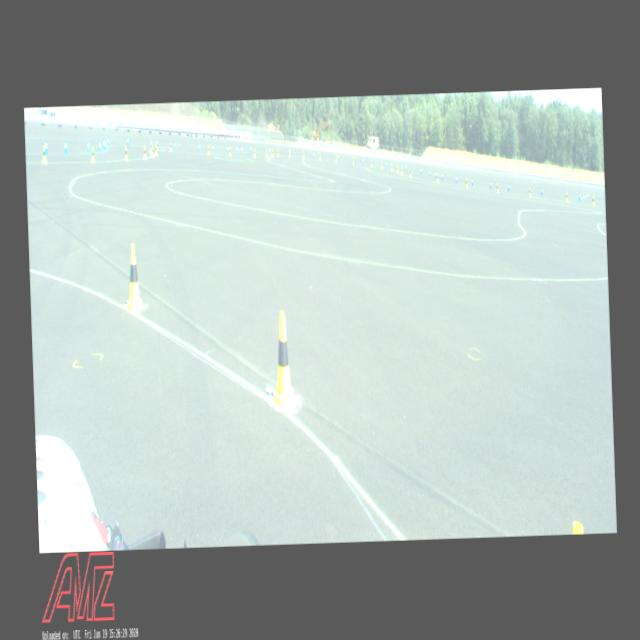blue_cone: (44, 138, 48, 154), (64, 138, 68, 154), (98, 140, 102, 150), (87, 139, 90, 152), (578, 191, 581, 201), (235, 144, 238, 154), (489, 180, 492, 189), (173, 140, 176, 148), (107, 135, 109, 146), (102, 138, 104, 148), (507, 181, 509, 191), (150, 138, 152, 148), (126, 136, 128, 145), (470, 176, 472, 185), (212, 143, 214, 152), (429, 168, 431, 177), (540, 186, 542, 195), (441, 171, 443, 180), (198, 141, 200, 150), (420, 166, 422, 174), (312, 150, 314, 158), (226, 144, 228, 152), (385, 160, 387, 168), (249, 145, 251, 153), (434, 170, 436, 178), (240, 145, 242, 153), (455, 174, 457, 182), (362, 157, 364, 164), (404, 163, 406, 170), (105, 139, 106, 151), (269, 146, 270, 153), (338, 154, 338, 160)
yellow_cone: (268, 309, 296, 404), (125, 242, 144, 310), (41, 146, 47, 162), (90, 146, 94, 162), (124, 146, 128, 160), (464, 177, 468, 187), (150, 146, 154, 156), (154, 144, 158, 154), (143, 146, 146, 158), (565, 191, 568, 201), (169, 140, 172, 150), (207, 144, 210, 154), (496, 181, 498, 192), (528, 186, 530, 196), (265, 148, 267, 158), (436, 172, 438, 182), (592, 196, 594, 206), (390, 162, 392, 171), (253, 147, 255, 156), (156, 140, 158, 149), (380, 160, 382, 168), (370, 158, 372, 166), (352, 156, 354, 164), (228, 147, 230, 155), (276, 148, 278, 156), (396, 164, 398, 172), (400, 166, 402, 174), (318, 152, 320, 160), (271, 148, 273, 156), (409, 168, 411, 176), (150, 142, 152, 150), (302, 150, 304, 157), (335, 154, 337, 161), (288, 150, 290, 156)
